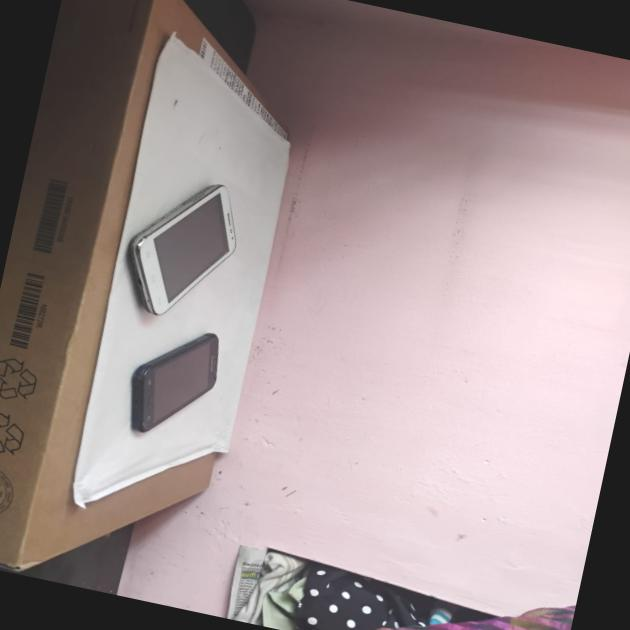phone: (108, 165, 238, 327), (119, 323, 216, 444)
